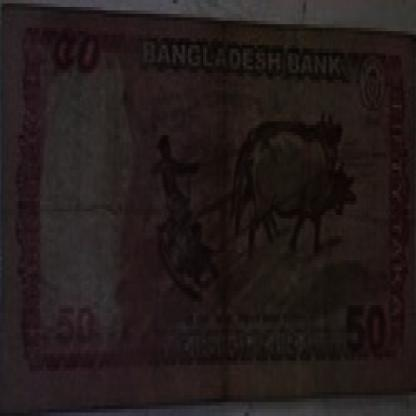Fifty taka: (338, 295, 414, 371), (49, 21, 112, 100)
